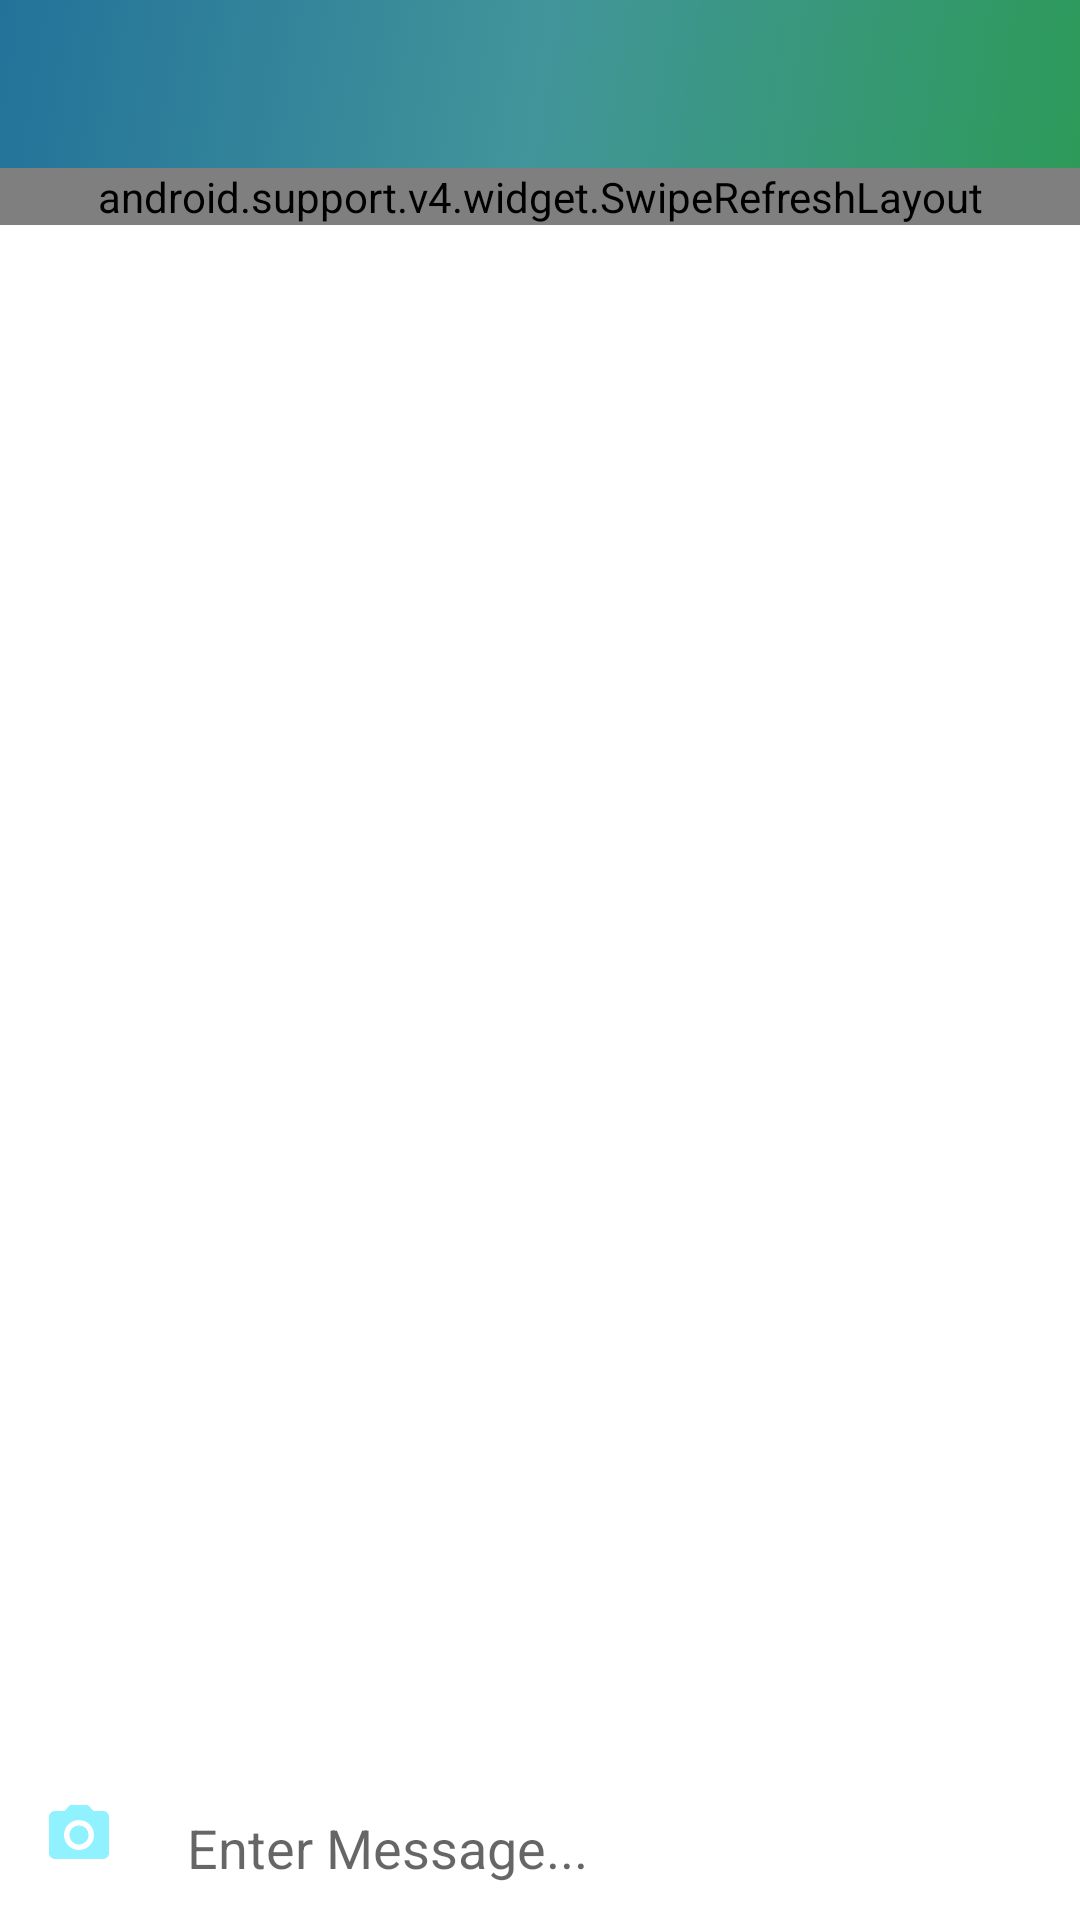

Point at icon controls on the screen. Image size 1080*1920, points as (x,y).
camera: (79,1832)
